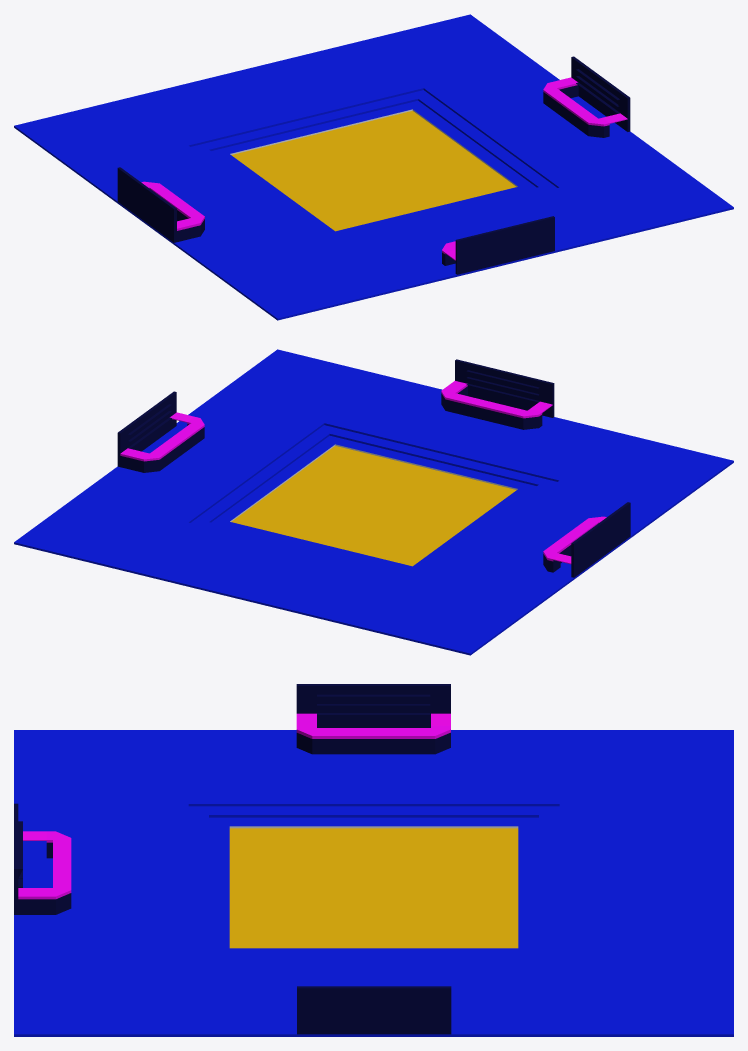
Rendered from BarSUKA.fbx.
3 views of the same model, one above another, from view 1: azimuth 30°, elevation 25°; view 2: azimuth 150°, elevation 25°; view 3: azimuth 270°, elevation 25° (orthographic). The views are drawn at different scales.
Parts seen in each view (by area): view 1: Cube, Cube.002; view 2: Cube, Cube.002; view 3: Cube, Cube.002.
Part boxes in pixels (left/top/right/bottom): Cube: left=14, top=14, right=733, bottom=320; Cube.002: left=117, top=56, right=630, bottom=274; Cube: left=14, top=349, right=733, bottom=655; Cube.002: left=117, top=359, right=630, bottom=577; Cube: left=14, top=730, right=733, bottom=1036; Cube.002: left=14, top=684, right=451, bottom=1034.
Size of the model in its own units: 7482 by 811 by 7483.
